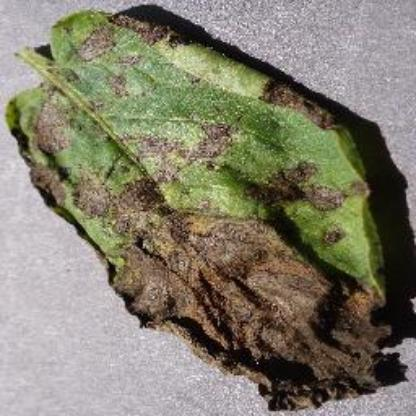Early-Blight: (8, 13, 410, 408)
